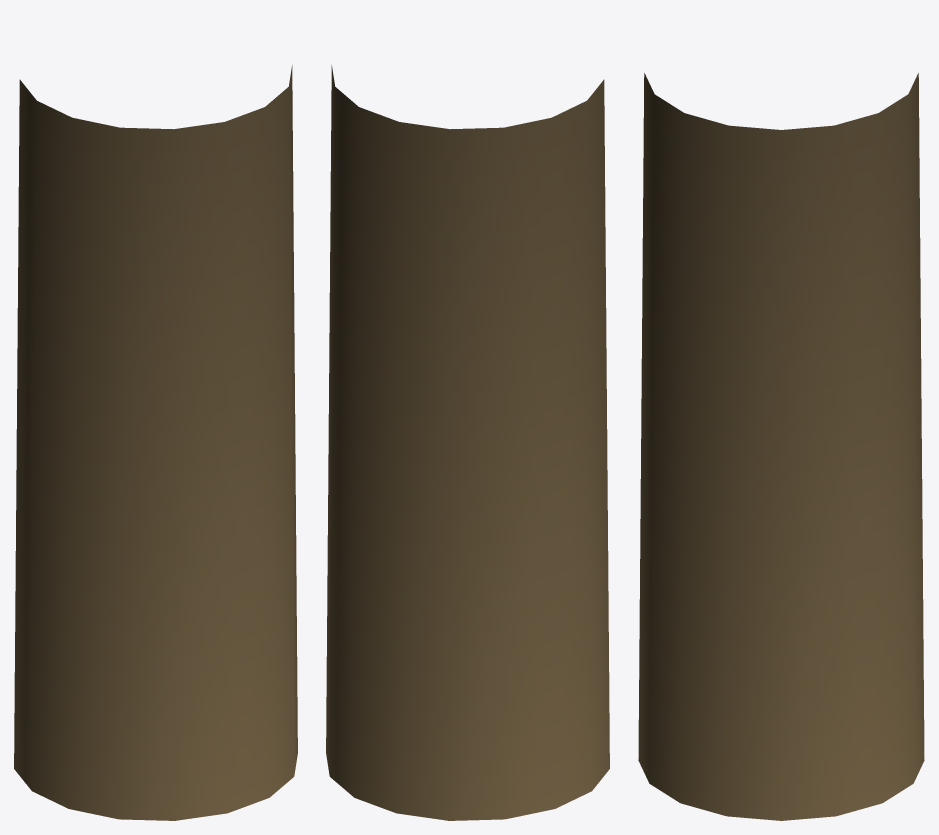
File: PRP_Urn.glb
3 renders of one model, left to right at view 1: azimuth 30°, elevation 25°; view 2: azimuth 150°, elevation 25°; view 3: azimuth 270°, elevation 25°, orthographic.
Visible parts, largest first — view 1: PRP_Urn; view 2: PRP_Urn; view 3: PRP_Urn.
Boxes of the visible parts, <box> form: PRP_Urn: <box>14,65,297,820</box>; PRP_Urn: <box>326,65,609,820</box>; PRP_Urn: <box>638,73,924,820</box>.
Bounding box in the file's own units: 0.32 × 0.85 × 0.32.
Materials: 1 (1 with a texture image).
